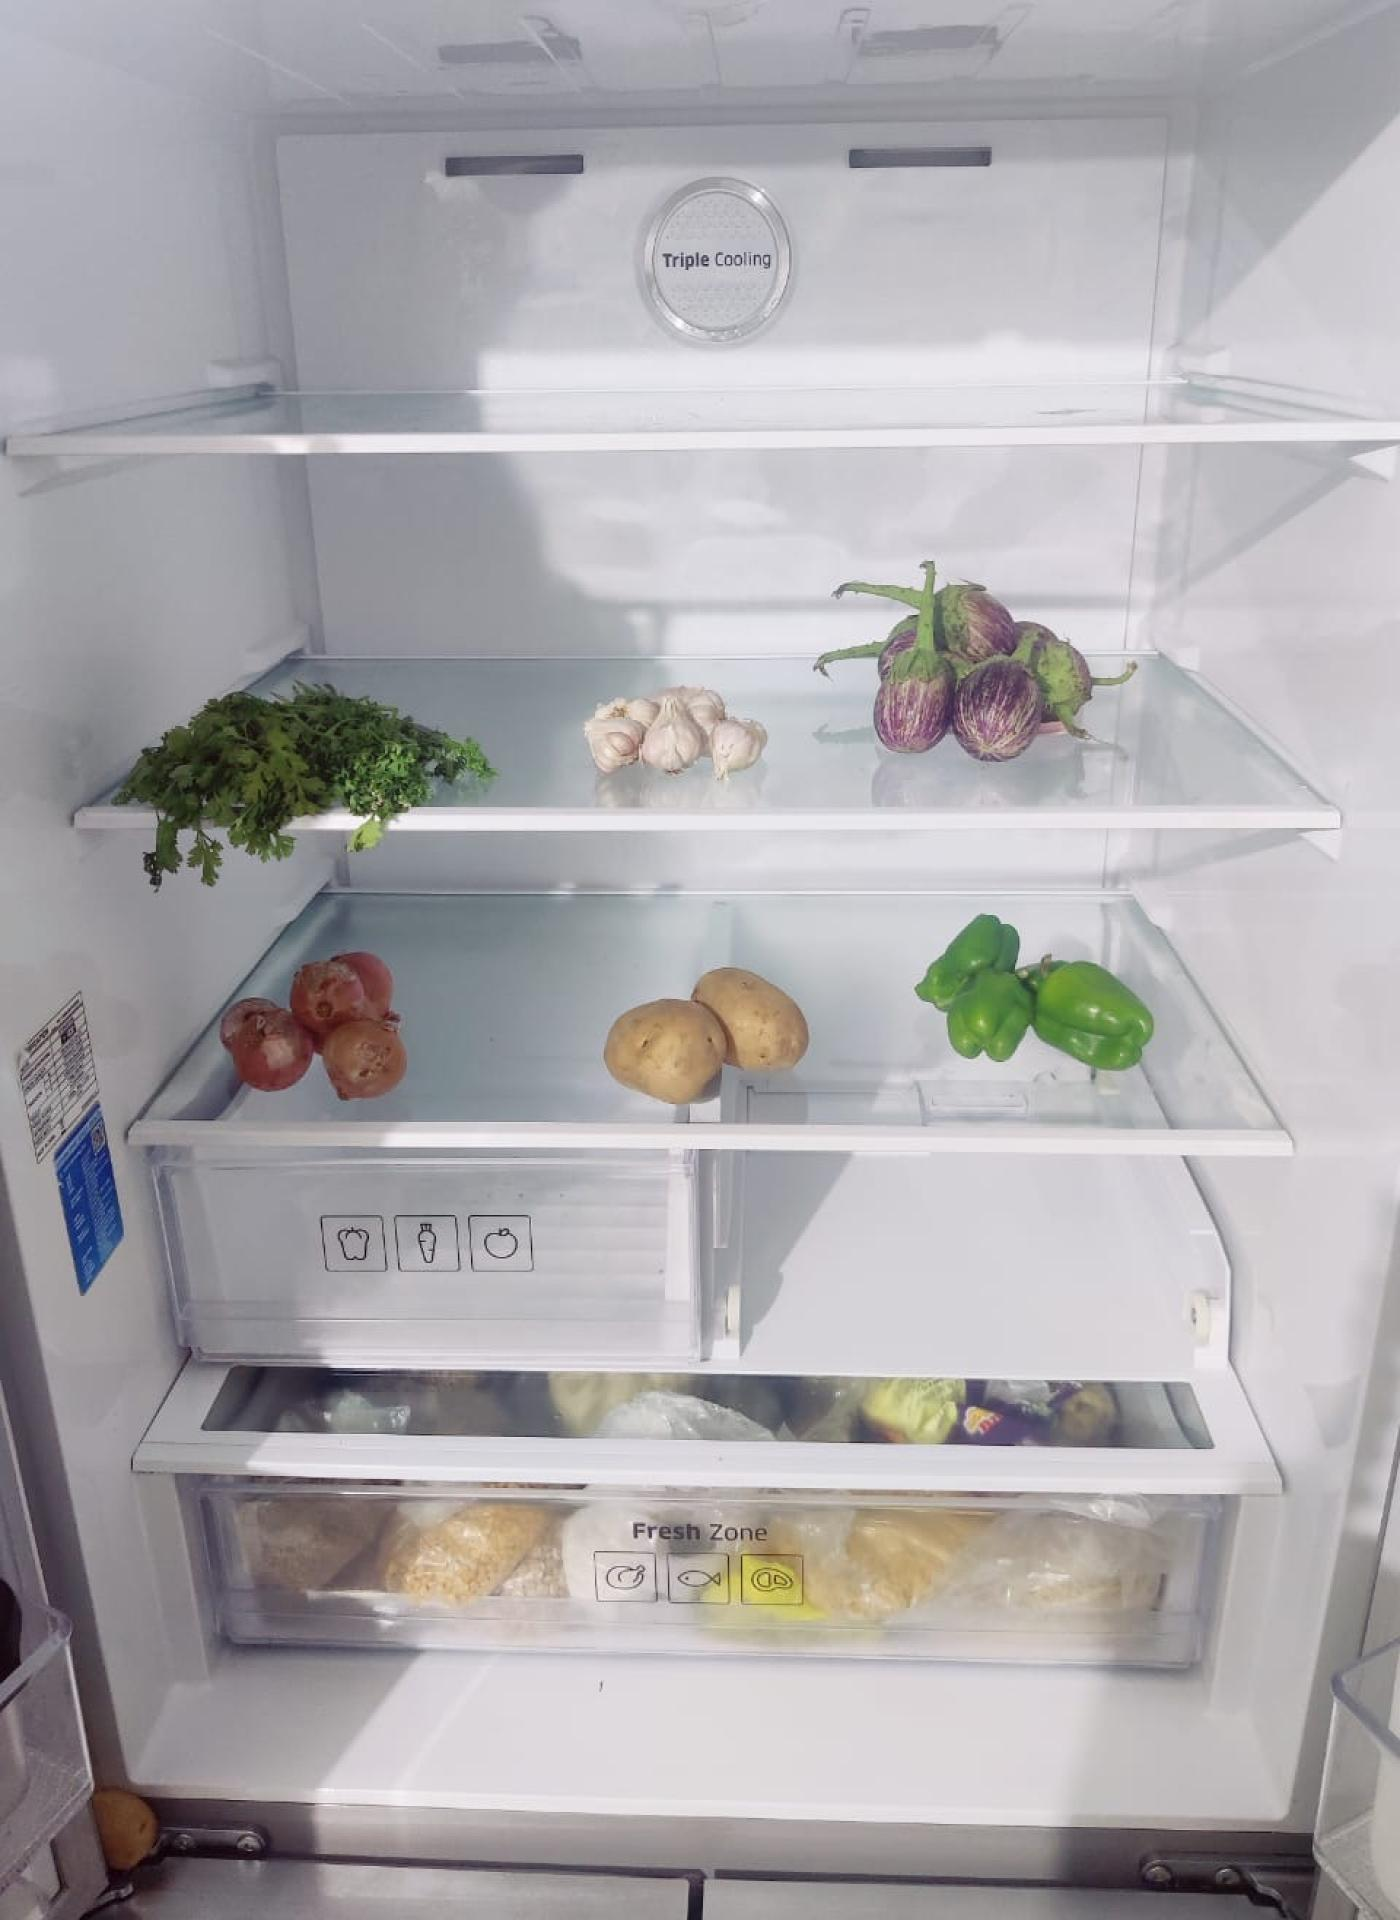brinjal: (871, 580, 1085, 759)
capsicum: (924, 915, 1163, 1073)
coriander: (125, 680, 489, 830)
garlic: (586, 674, 769, 769)
onion: (225, 951, 412, 1096)
potato: (610, 964, 817, 1103)
